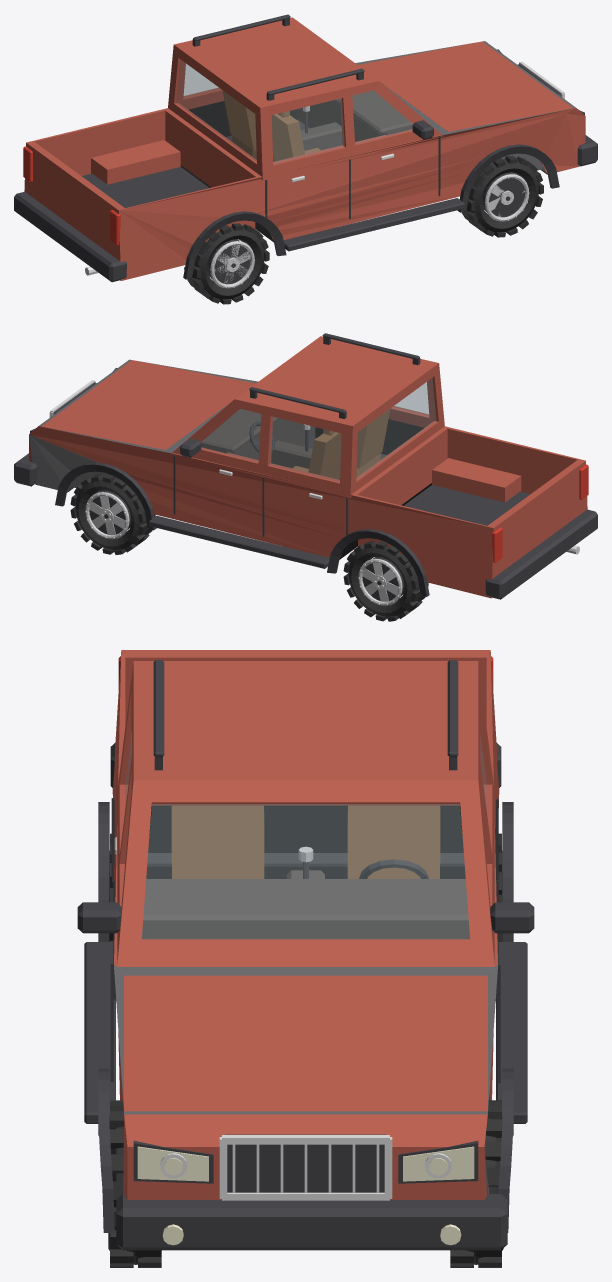
Rendered from iaz.glb.
3 views of the same model, one above another, from view 1: azimuth 30°, elevation 25°; view 2: azimuth 150°, elevation 25°; view 3: azimuth 270°, elevation 25° (orthographic). The views are drawn at different scales.
Visible parts, largest first — view 1: Body.002, Dark.002, Hood.002, Glass.002, Tire.002, Dash.002, Seat.002, Rim.002, Bay.002, Well.002, Chrome.002, Tail.002; view 2: Body.002, Dark.002, Hood.002, Glass.002, Tire.002, Dash.002, Bay.002, Seat.002, Rim.002, Well.002, Chrome.002, Tail.002; view 3: Body.002, Dark.002, Hood.002, Glass.002, Dash.002, Seat.002, Well.002, Bay.002, Chrome.002, Tire.002, Headlight.002.
Boxes of the visible parts, bbox=[...] form: Body.002: bbox=[24, 17, 585, 280]; Dark.002: bbox=[14, 14, 597, 284]; Hood.002: bbox=[358, 41, 573, 131]; Glass.002: bbox=[176, 60, 412, 163]; Tire.002: bbox=[184, 155, 543, 304]; Dash.002: bbox=[273, 90, 413, 161]; Seat.002: bbox=[222, 90, 320, 161]; Rim.002: bbox=[210, 174, 529, 288]; Bay.002: bbox=[355, 41, 575, 174]; Well.002: bbox=[180, 101, 546, 242]; Chrome.002: bbox=[85, 61, 564, 287]; Tail.002: bbox=[23, 146, 120, 245]; Body.002: bbox=[29, 336, 587, 598]; Dark.002: bbox=[14, 333, 597, 600]; Hood.002: bbox=[41, 360, 255, 449]; Glass.002: bbox=[201, 378, 435, 481]; Tire.002: bbox=[70, 473, 428, 621]; Dash.002: bbox=[201, 408, 340, 479]; Bay.002: bbox=[29, 359, 257, 492]; Seat.002: bbox=[292, 408, 390, 479]; Rim.002: bbox=[85, 492, 402, 605]; Well.002: bbox=[68, 419, 431, 559]; Chrome.002: bbox=[49, 380, 579, 605]; Tail.002: bbox=[491, 464, 588, 562]; Body.002: bbox=[112, 650, 499, 1199]; Dark.002: bbox=[77, 660, 534, 1250]; Hood.002: bbox=[124, 975, 487, 1111]; Glass.002: bbox=[125, 736, 486, 938]; Dash.002: bbox=[142, 870, 469, 939]; Seat.002: bbox=[171, 805, 440, 878]; Well.002: bbox=[146, 805, 495, 878]; Bay.002: bbox=[114, 965, 497, 1193]; Chrome.002: bbox=[114, 837, 451, 1200]; Tire.002: bbox=[108, 833, 503, 1267]; Headlight.002: bbox=[137, 1146, 474, 1245].
Size of the model in its own units: 5.39 by 1.99 by 2.17.
